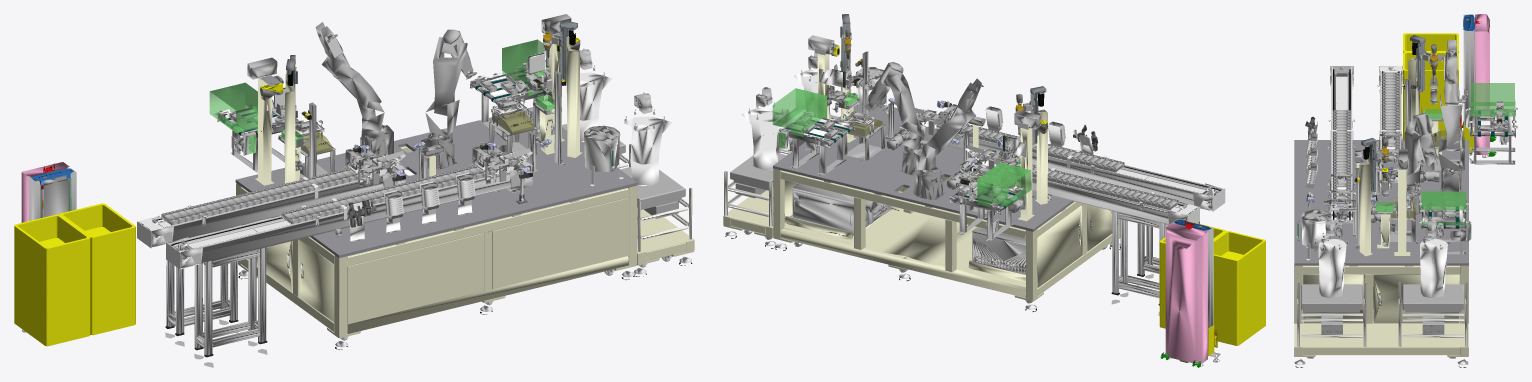
File: cell_paste.glb
3 renders of one model, left to right at view 1: azimuth 30°, elevation 25°; view 2: azimuth 150°, elevation 25°; view 3: azimuth 270°, elevation 25°, orthographic. The views are drawn at different scales.
Size of the model in its own units: 4.89 by 1.96 by 1.92.
